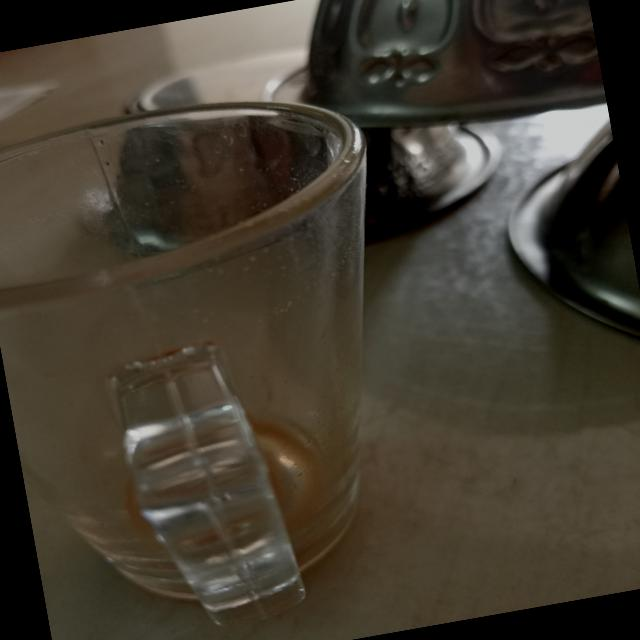glass-VX4N: (0, 72, 440, 640)
